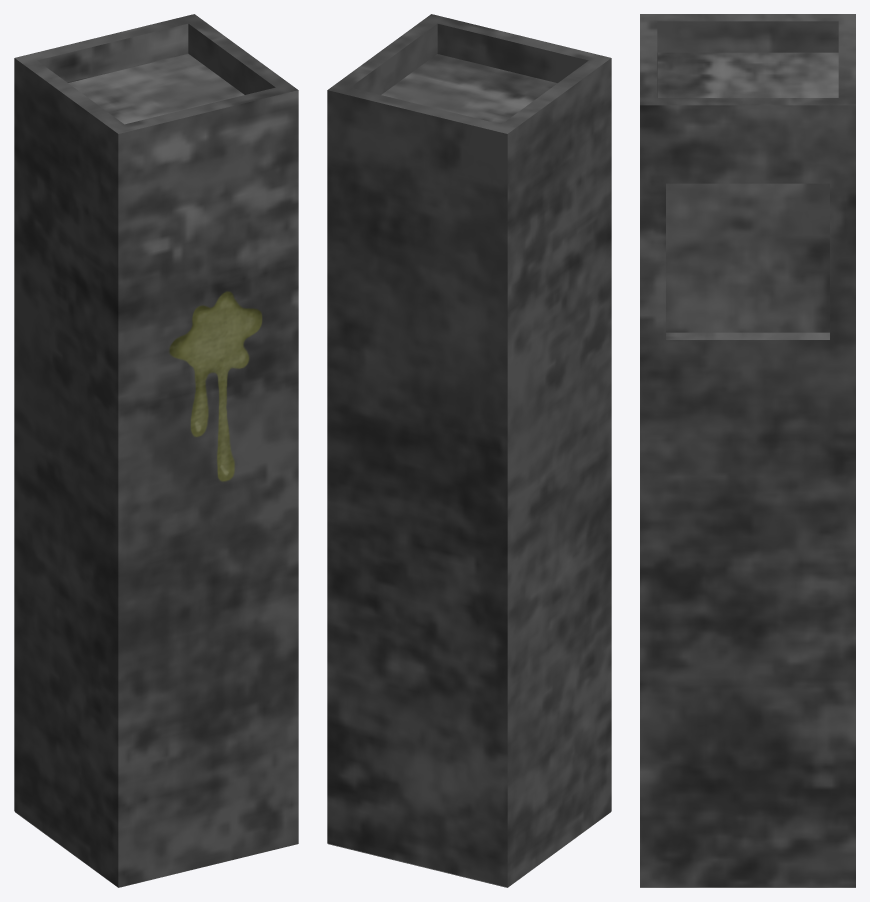
Rendered from Papelera.FBX.
3 renders of one model, left to right at view 1: azimuth 30°, elevation 25°; view 2: azimuth 150°, elevation 25°; view 3: azimuth 270°, elevation 25°, orthographic. The views are drawn at different scales.
Visible parts, largest first — view 1: Superficie trepar papelera, Papelera; view 2: Superficie trepar papelera, Papelera; view 3: Superficie trepar papelera, Papelera.
Boxes of the visible parts, x1=… form: Superficie trepar papelera: x1=14, y1=53, x2=298, y2=887; Papelera: x1=15, y1=14, x2=297, y2=887; Superficie trepar papelera: x1=327, y1=54, x2=611, y2=887; Papelera: x1=328, y1=14, x2=610, y2=887; Superficie trepar papelera: x1=640, y1=53, x2=855, y2=887; Papelera: x1=640, y1=14, x2=855, y2=887.
Size of the model in its own units: 0.25 by 1 by 0.25.
Materials: 1 (1 with a texture image).
